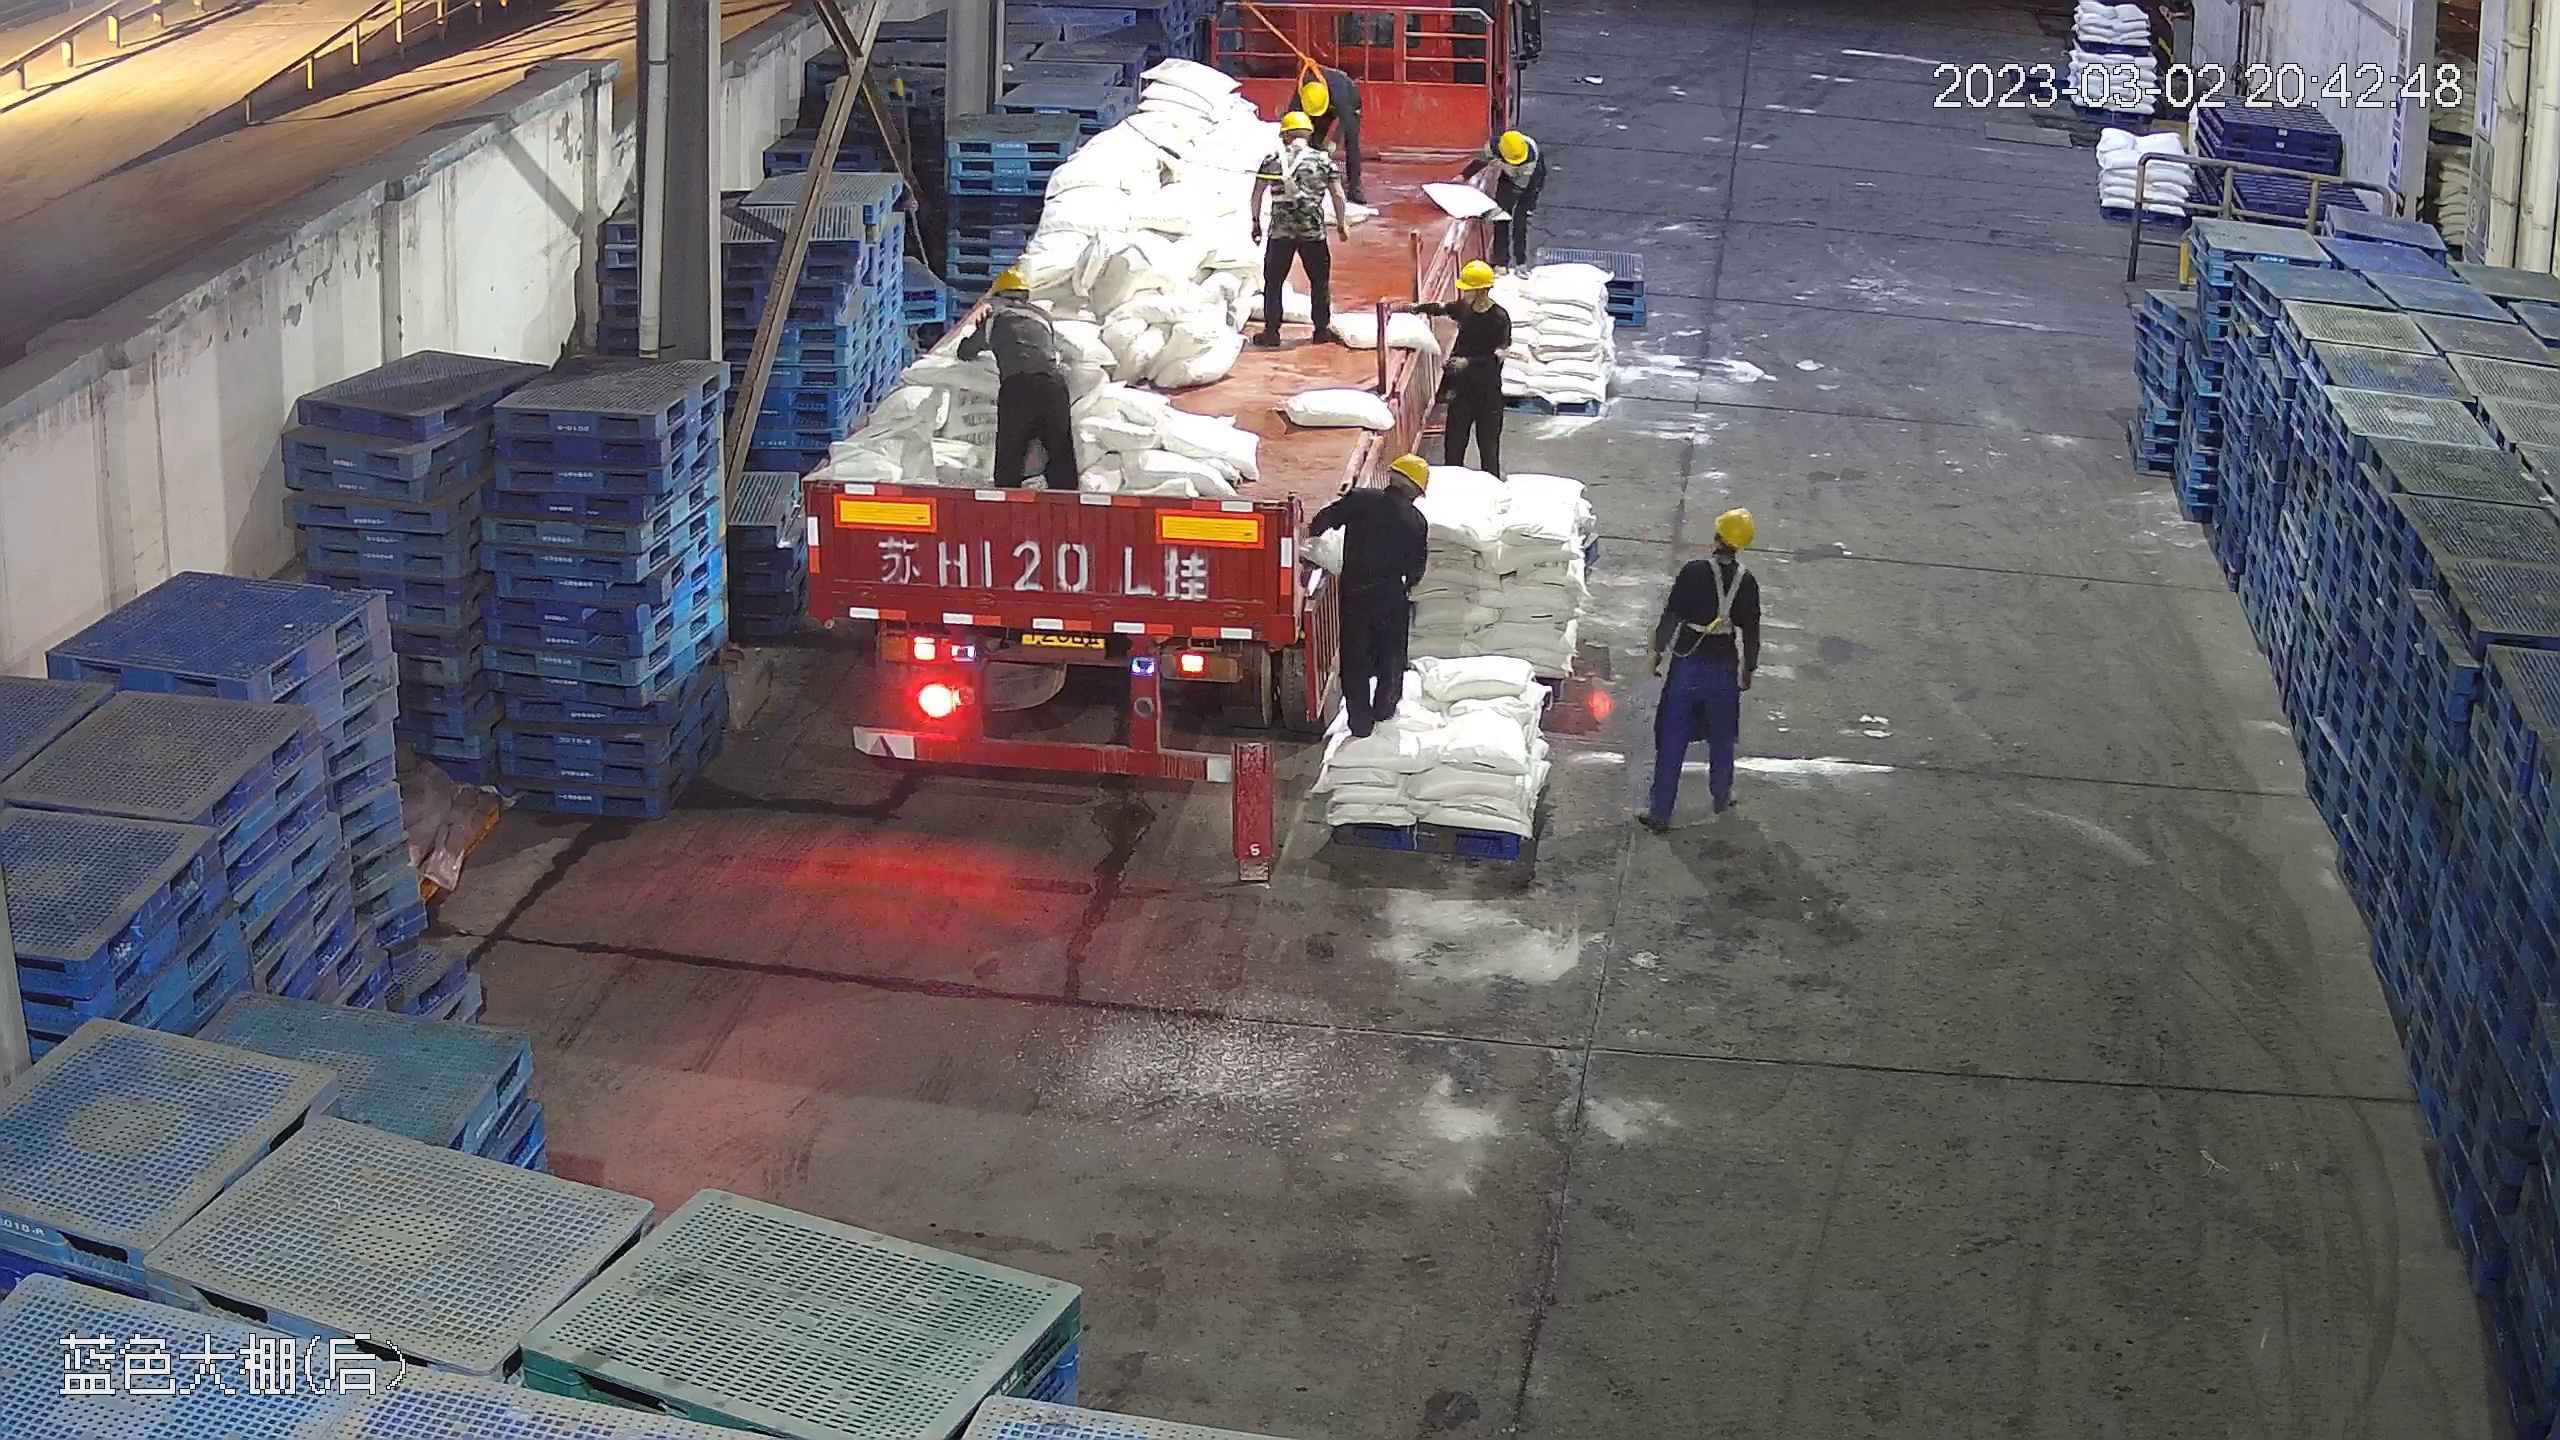belt: (1683, 555, 1750, 635), (978, 291, 1058, 340), (1270, 144, 1323, 198), (1291, 46, 1340, 92)
head: (1336, 449, 1431, 542), (1673, 508, 1761, 609), (982, 268, 1059, 353), (1260, 105, 1334, 179), (1444, 261, 1510, 340), (1477, 130, 1538, 198), (1288, 59, 1354, 118)
helmet: (1385, 451, 1432, 493), (1713, 508, 1758, 547), (989, 267, 1032, 297), (1454, 258, 1498, 289), (1497, 129, 1530, 166), (1299, 82, 1332, 120), (1273, 108, 1310, 136)
people: (1638, 506, 1766, 827), (1309, 444, 1432, 739), (938, 266, 1085, 497), (1248, 108, 1346, 345), (1430, 258, 1515, 482), (1292, 46, 1370, 204), (1468, 124, 1548, 266)
truck: (818, 25, 1539, 806)
